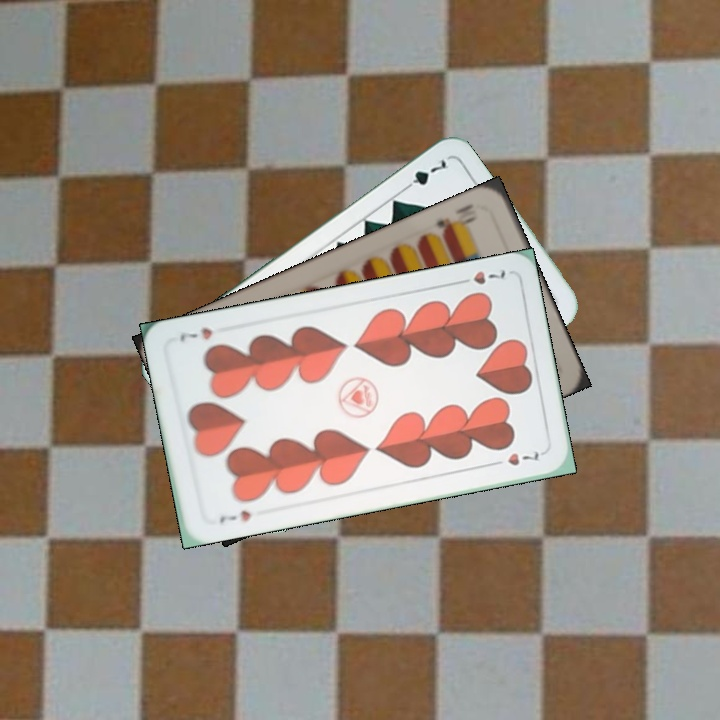E10: (432, 199, 479, 238)
G7: (398, 155, 452, 195)
H7: (452, 265, 508, 287), (215, 506, 253, 526)
